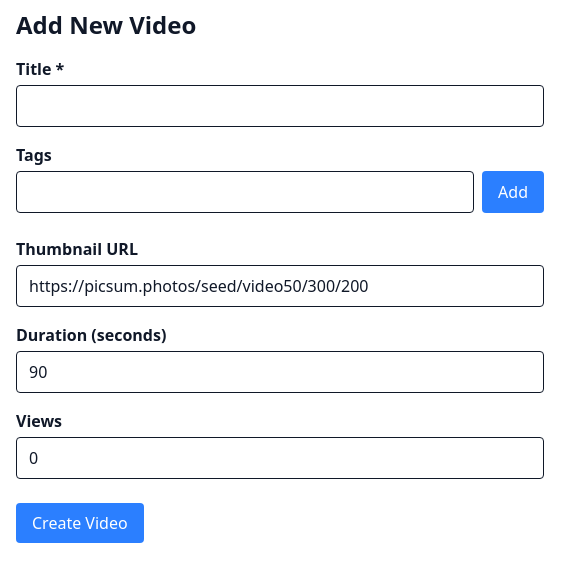
it: CreateVideo Page › shows an error message if title is missing
Click the button "Create Video": (80, 523) [16,503,144,543]
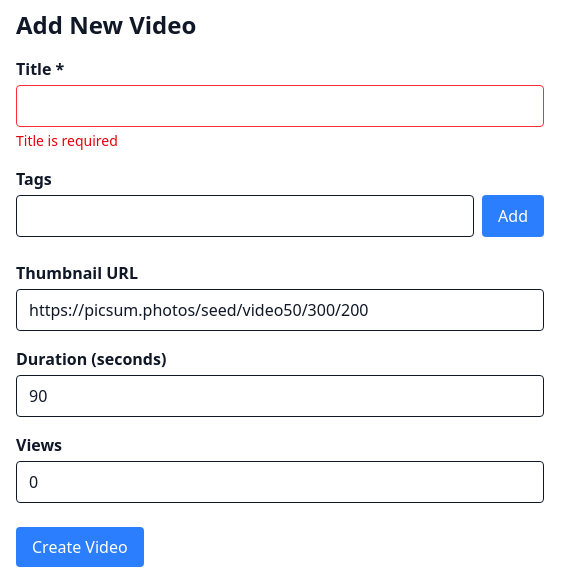
Result: the text "Title is required" is shown at [16,131,118,150]
